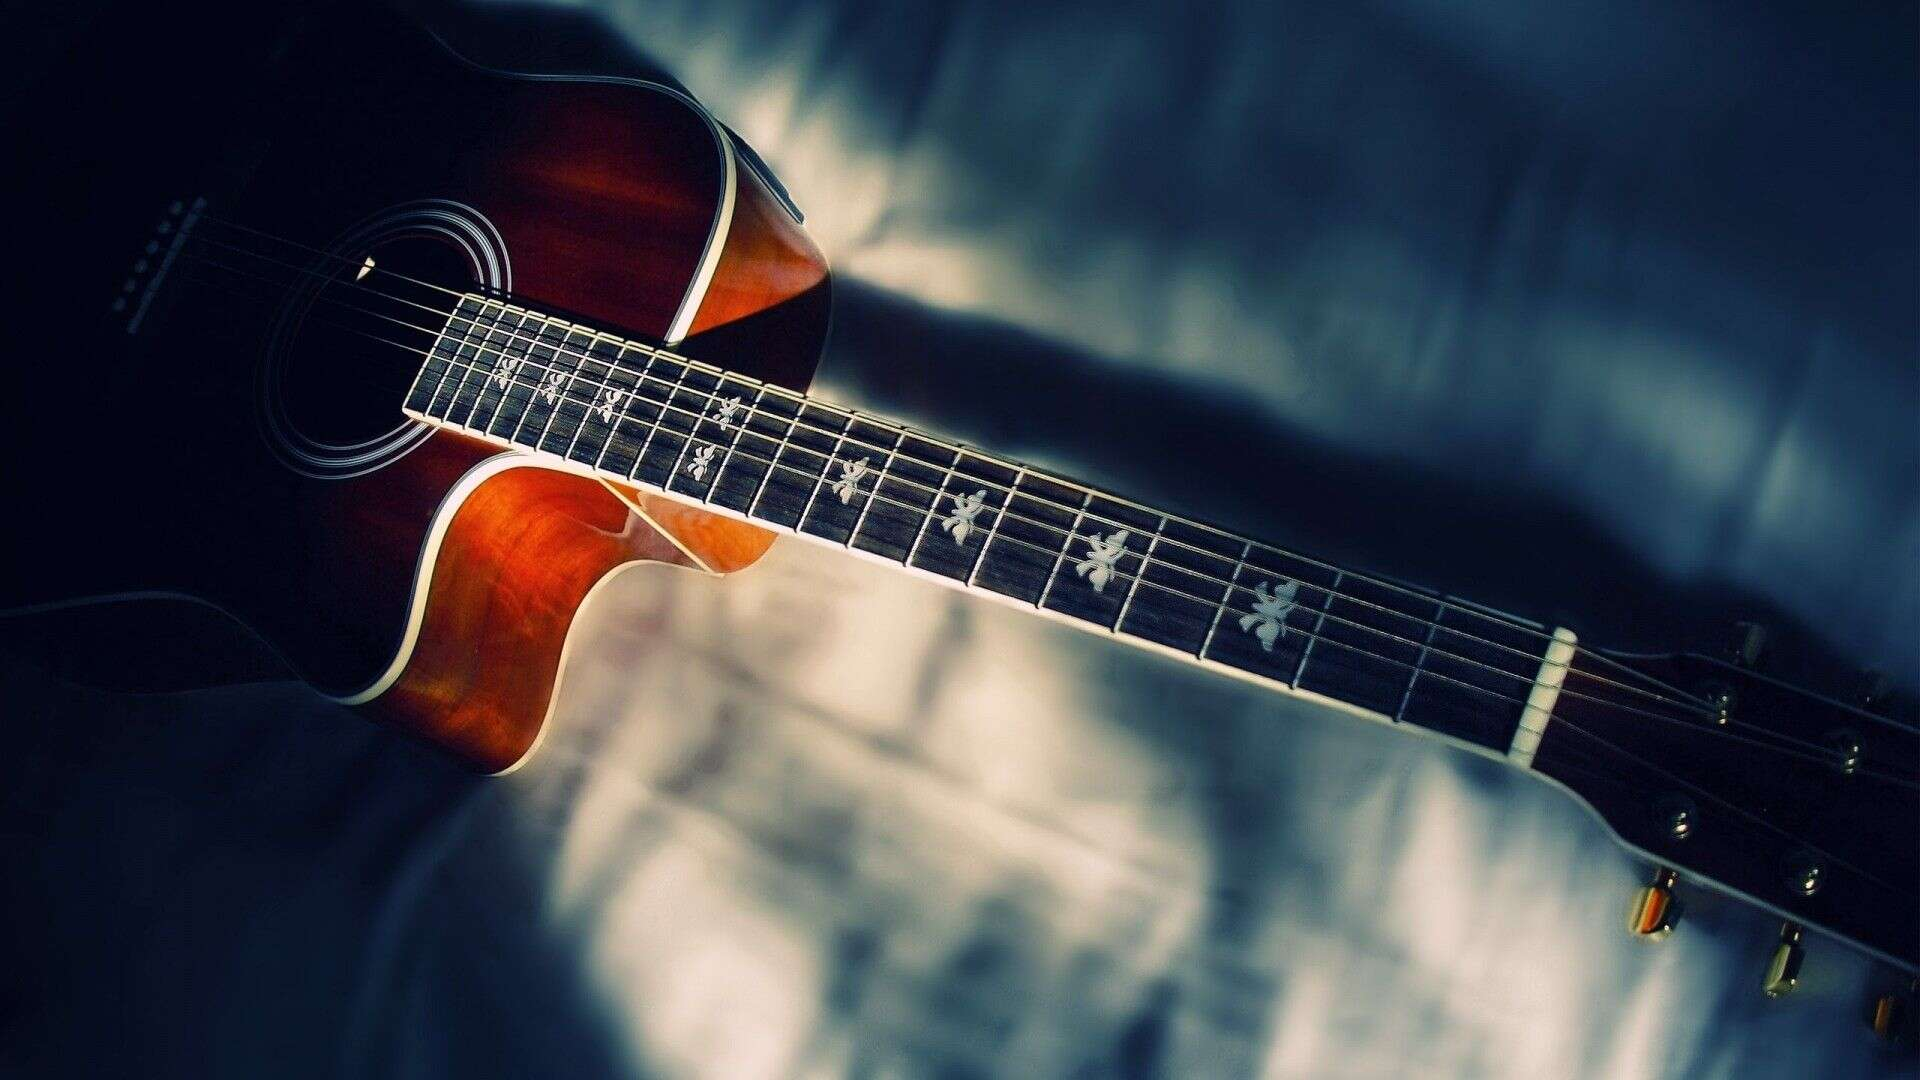guitar: (1, 9, 1917, 1080)
